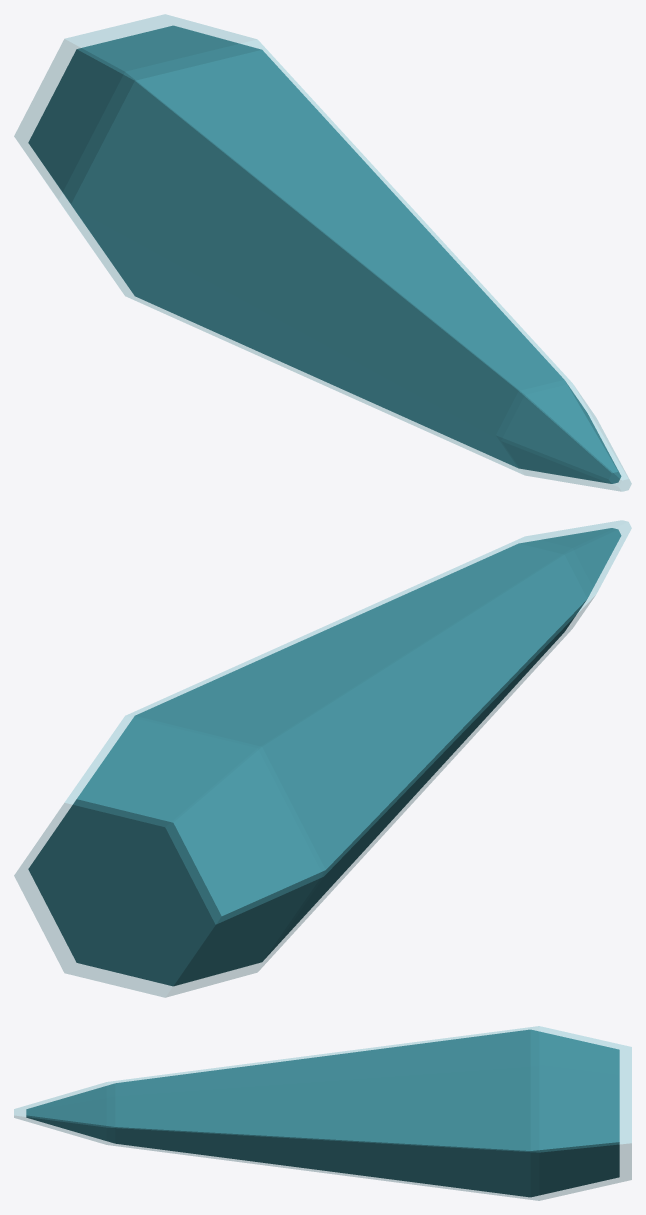
Rendered from item_7item199.glb.
3 renders of one model, top to bottom at view 1: azimuth 30°, elevation 25°; view 2: azimuth 150°, elevation 25°; view 3: azimuth 270°, elevation 25°, orthographic. The views are drawn at different scales.
Visible parts, largest first — view 1: jewellery_7item199_glass, jewellery_7item199; view 2: jewellery_7item199_glass, jewellery_7item199; view 3: jewellery_7item199_glass, jewellery_7item199.
Boxes of the visible parts, box(x1,y1,x2,y2) form: jewellery_7item199_glass: box(14, 14, 631, 491); jewellery_7item199: box(28, 25, 621, 483); jewellery_7item199_glass: box(14, 520, 631, 997); jewellery_7item199: box(28, 528, 621, 986); jewellery_7item199_glass: box(14, 1026, 631, 1200); jewellery_7item199: box(26, 1029, 619, 1197).
Size of the model in its own units: 0.3 by 0.2425 by 1.
